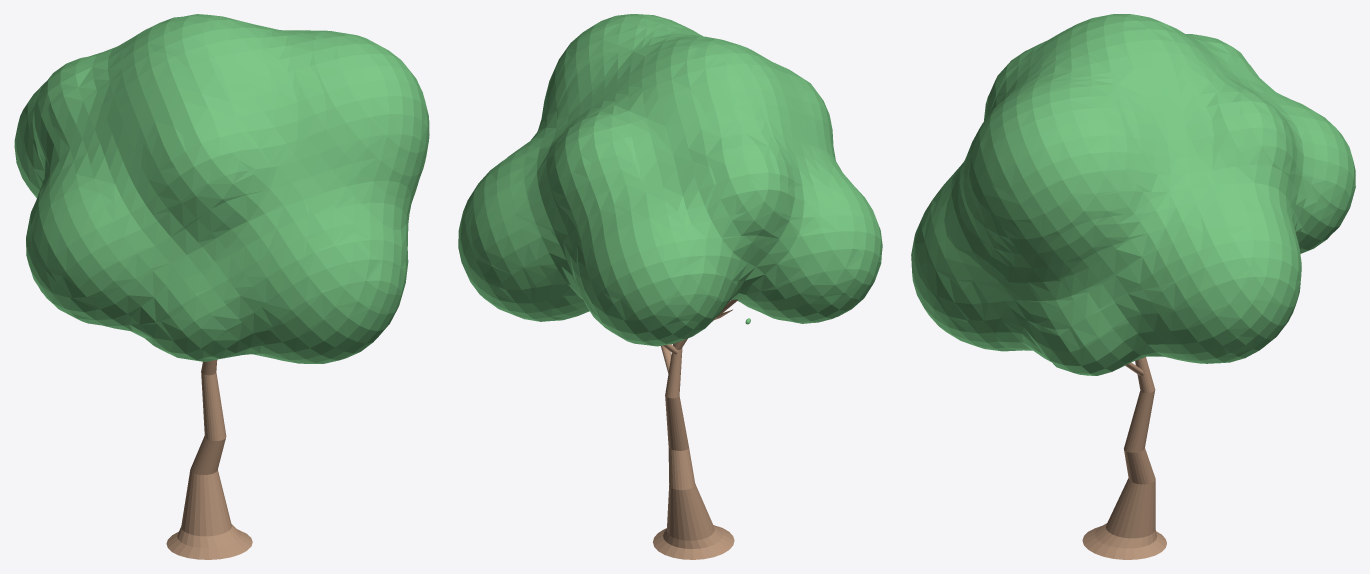
File: Cartoon_Trees_Pack_Tree_8.glb
3 views of the same model, side by side, from view 1: azimuth 30°, elevation 25°; view 2: azimuth 150°, elevation 25°; view 3: azimuth 270°, elevation 25° (orthographic). The views are drawn at different scales.
Visible parts, largest first — view 1: Canopy, Trunk; view 2: Canopy, Trunk; view 3: Canopy, Trunk.
Part boxes in pixels (bbox=[...]): Canopy: bbox=[14, 14, 429, 363]; Trunk: bbox=[166, 359, 252, 559]; Canopy: bbox=[458, 14, 882, 346]; Trunk: bbox=[653, 299, 737, 559]; Canopy: bbox=[911, 14, 1355, 375]; Trunk: bbox=[1082, 357, 1166, 559].
Bounding box in the file's own units: 576 × 775 × 606.
